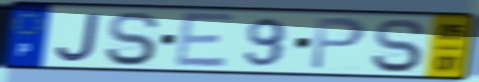9: (244, 16, 290, 69)
E: (173, 10, 237, 70)
J: (54, 11, 103, 64)
P: (308, 16, 369, 72)
S: (368, 17, 429, 75), (102, 10, 163, 68)
